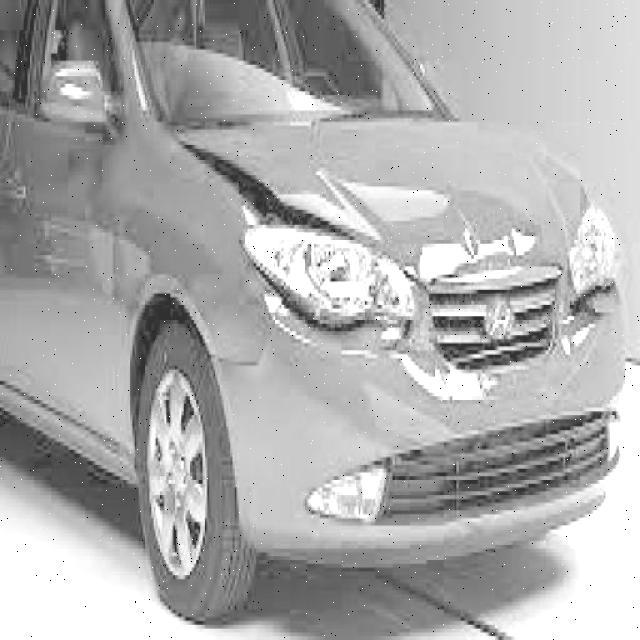car damage: (175, 134, 609, 418)
